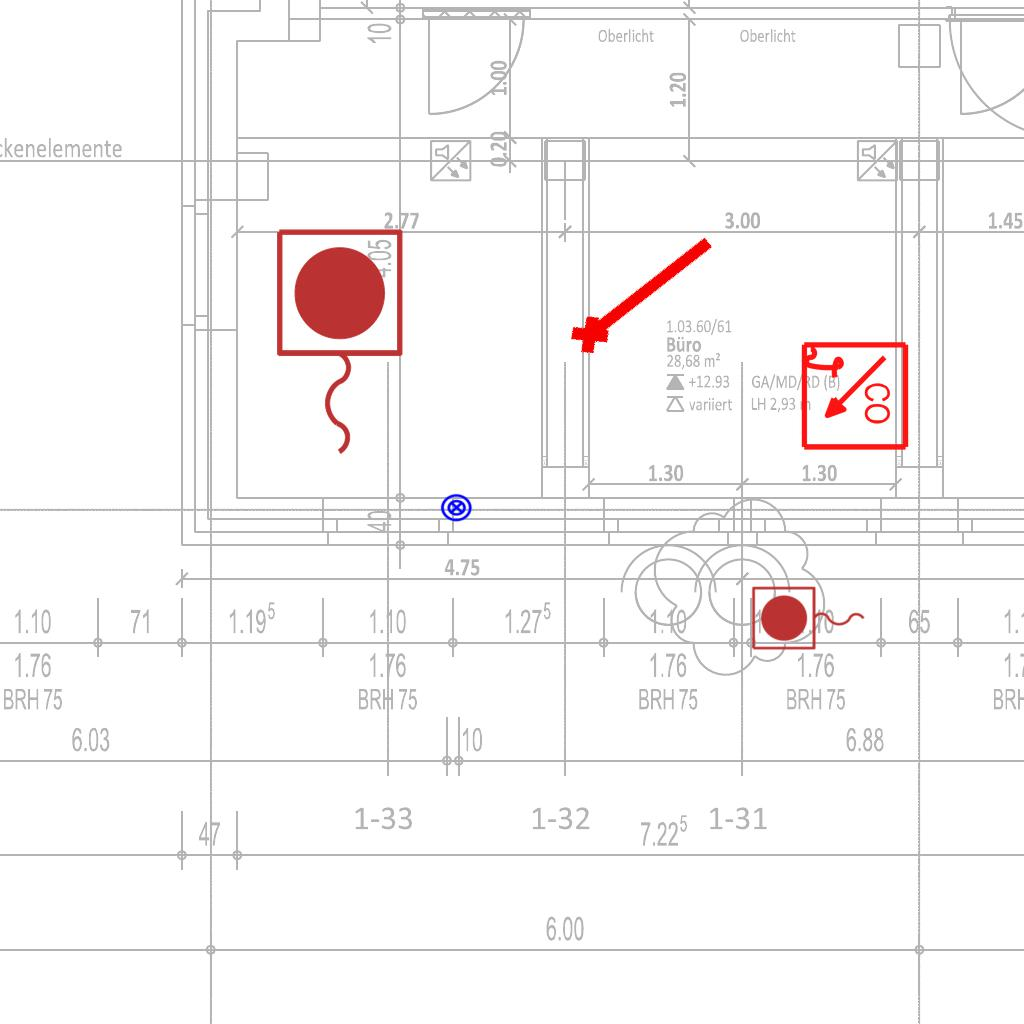ASR_Ansaugoeffnung: (558, 218, 726, 364)
ROA_Rauchmelder_optisch_mit_Signalgeber_(Sockelsirene): (797, 340, 910, 453)
Taster_beleuchtet: (440, 491, 473, 524)
Zugtaster: (266, 221, 410, 465), (748, 583, 870, 655)
